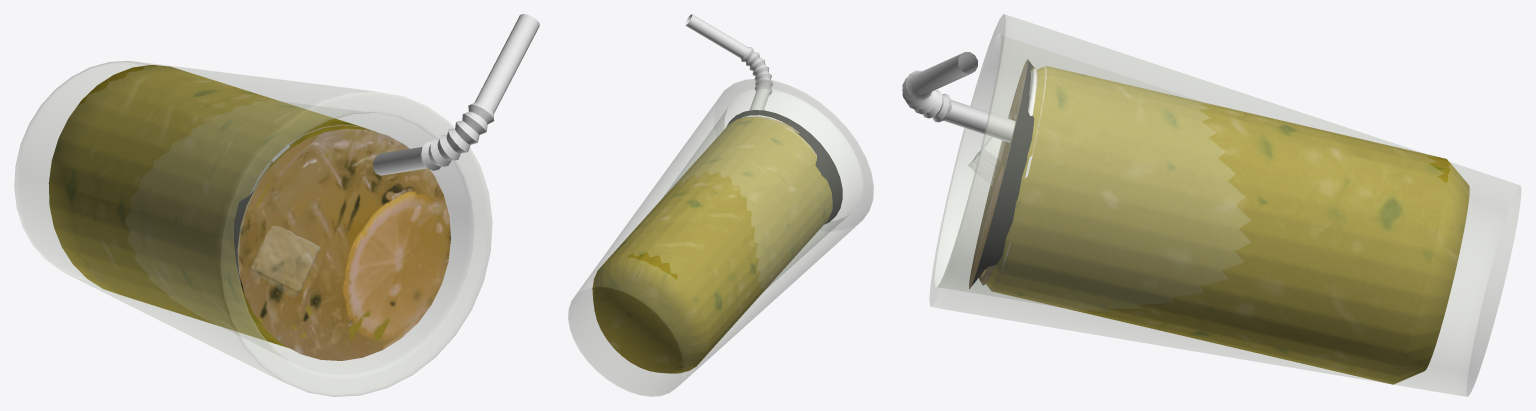
The model's file is lemonade.glb.
3 views of the same model, side by side, from view 1: azimuth 30°, elevation 25°; view 2: azimuth 150°, elevation 25°; view 3: azimuth 270°, elevation 25° (orthographic). The views are drawn at different scales.
Parts seen in each view (by area): view 1: Vert.002, Cylinder.001, coffee.002, Vert.001, Cube.002; view 2: Vert.002, Cylinder.001, Vert.001, coffee.002; view 3: Vert.002, Cylinder.001, coffee.002, Vert.001, Cube.002.
Boxes of the visible parts, left/top/right/bottom form: Vert.002: left=14, top=61, right=492, bottom=396; Cylinder.001: left=48, top=65, right=377, bottom=347; coffee.002: left=234, top=128, right=450, bottom=360; Vert.001: left=372, top=14, right=539, bottom=175; Cube.002: left=250, top=226, right=320, bottom=296; Vert.002: left=568, top=79, right=873, bottom=396; Cylinder.001: left=592, top=115, right=832, bottom=373; Vert.001: left=685, top=14, right=772, bottom=110; coffee.002: left=727, top=110, right=842, bottom=224; Vert.002: left=929, top=14, right=1521, bottom=396; Cylinder.001: left=979, top=65, right=1469, bottom=384; coffee.002: left=969, top=59, right=1034, bottom=288; Vert.001: left=902, top=52, right=1015, bottom=142; Cube.002: left=968, top=114, right=1010, bottom=184.
Size of the model in its own units: 9.06 by 11.29 by 15.39.
Materials: 5 (2 with a texture image).
